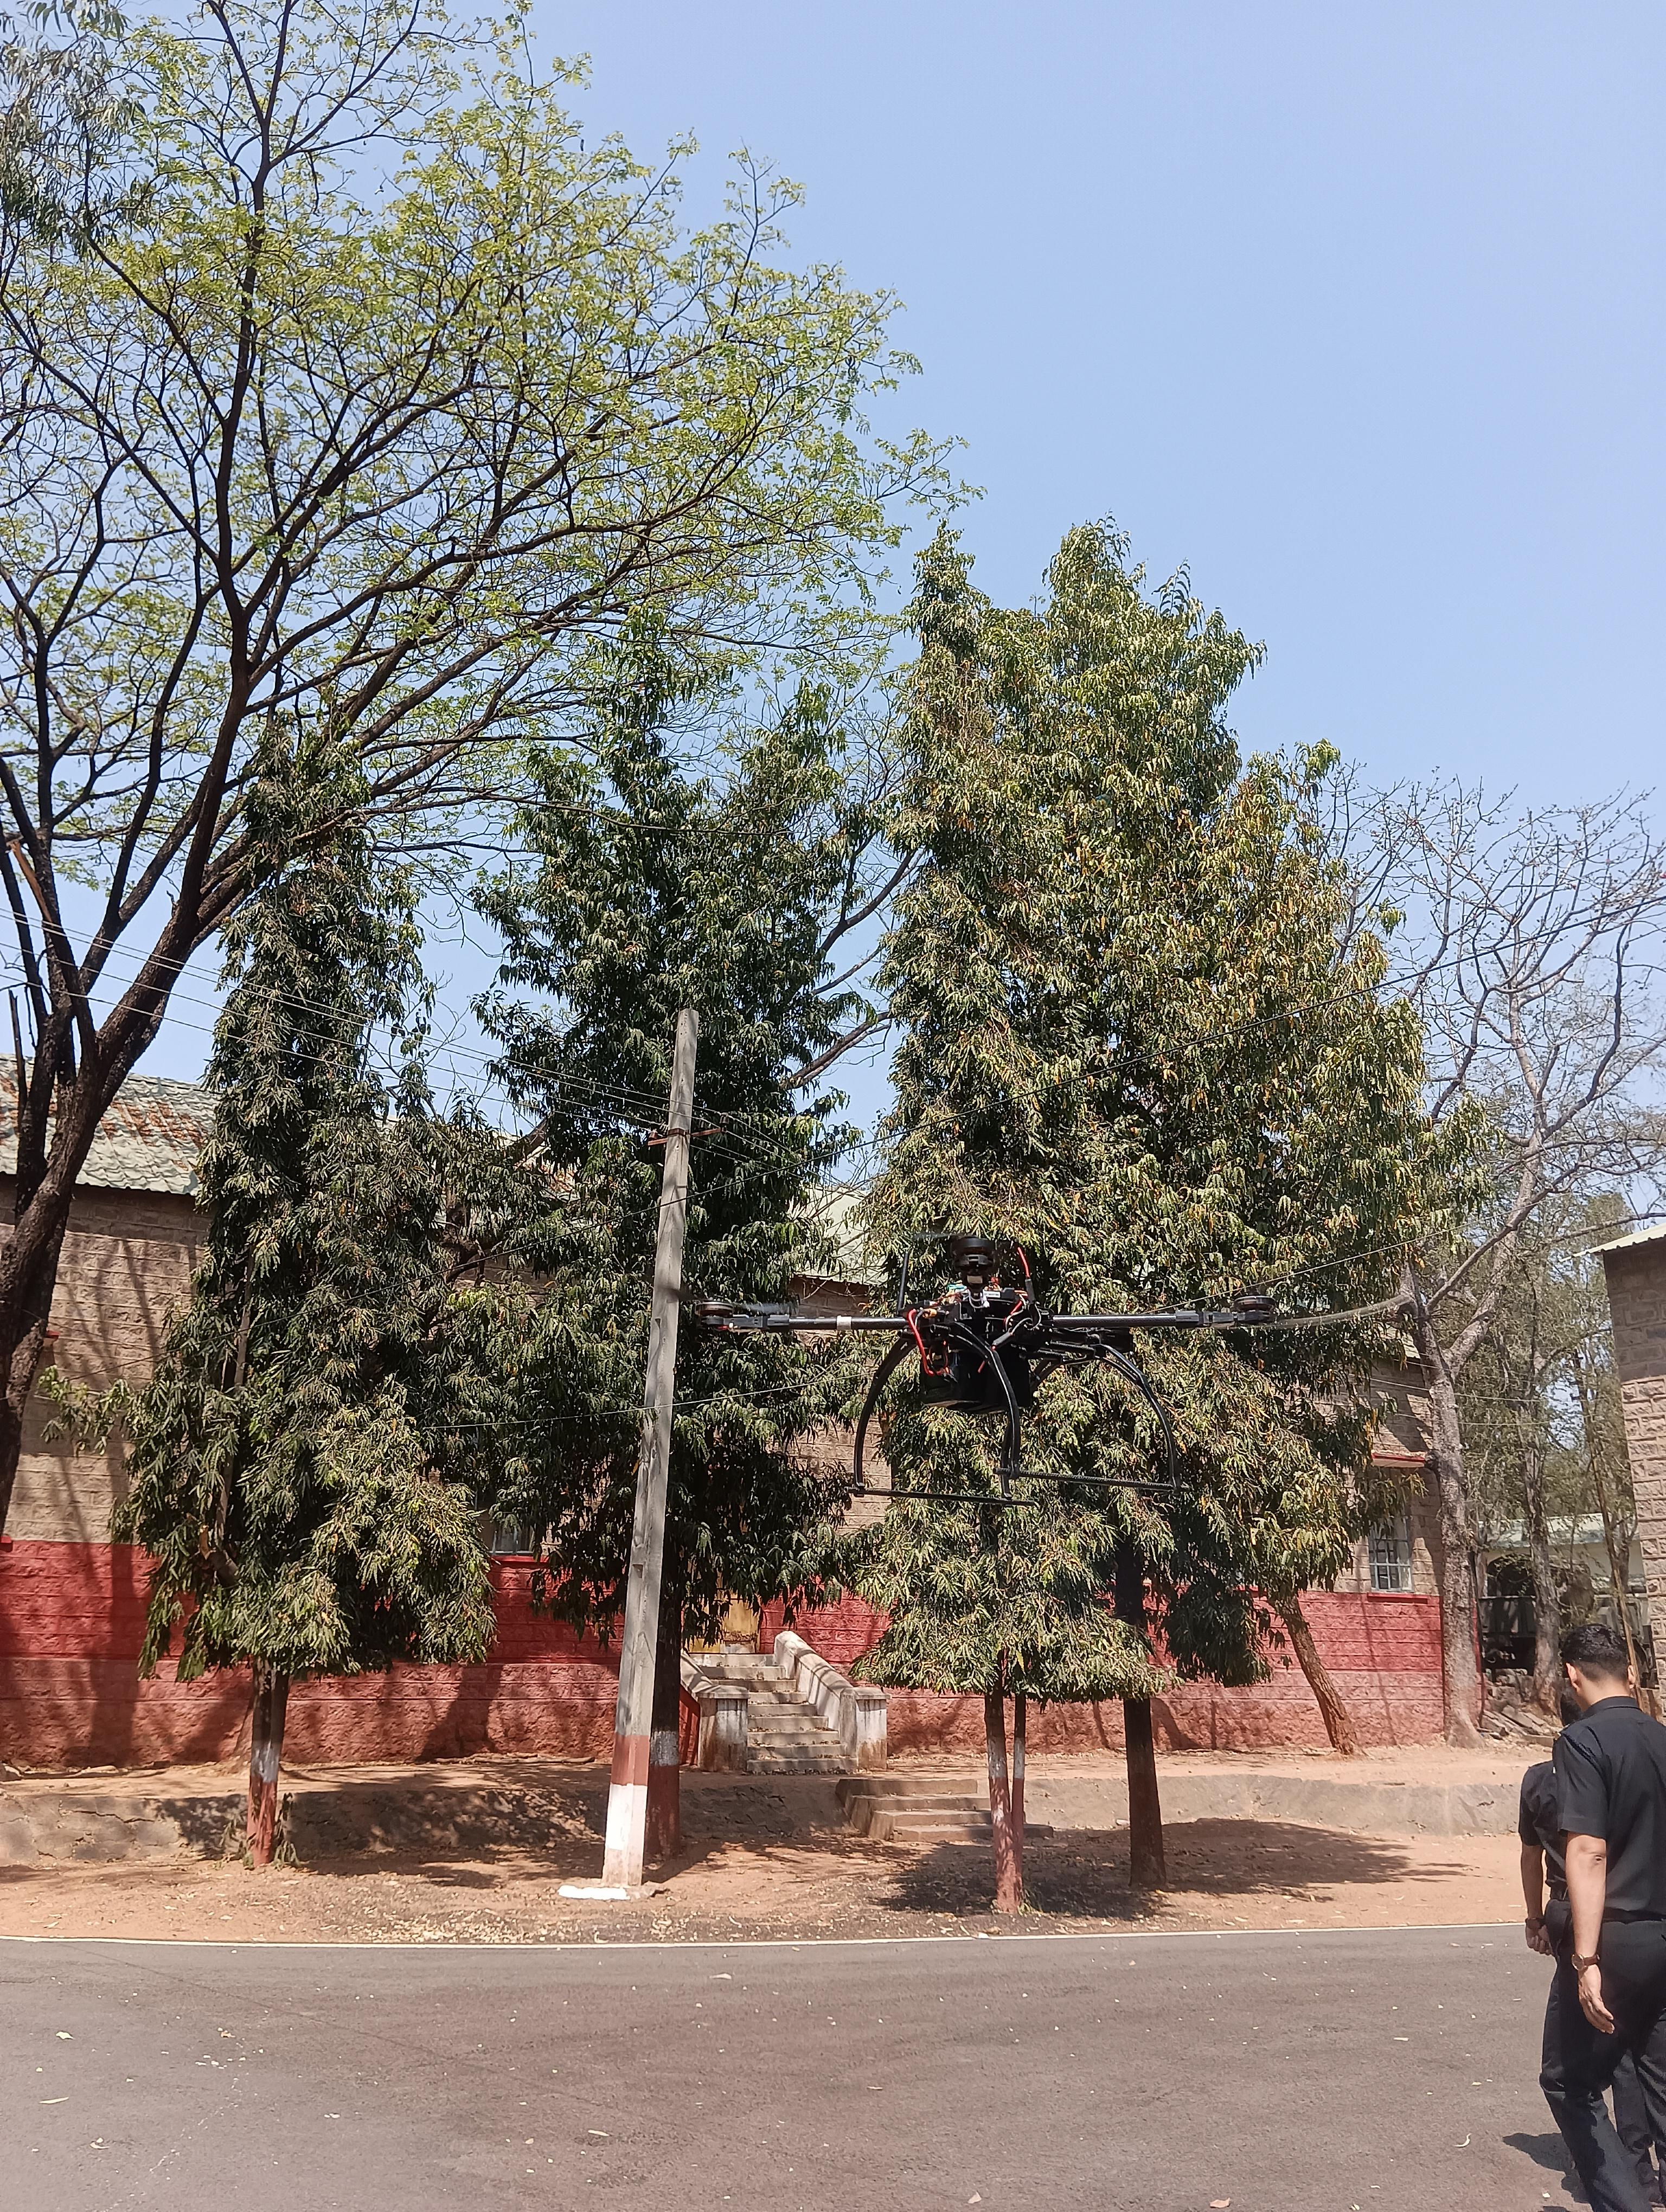drone: (591, 1172, 1367, 1504)
